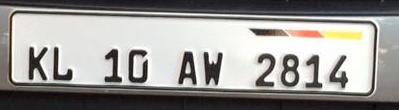0: (125, 46, 151, 82)
1: (304, 52, 325, 89), (102, 47, 123, 82)
2: (254, 52, 276, 86)
4: (326, 53, 351, 89)
8: (279, 51, 301, 86)
A: (176, 50, 200, 83)
K: (24, 44, 49, 81)
L: (50, 42, 74, 81)
W: (200, 48, 223, 86)
